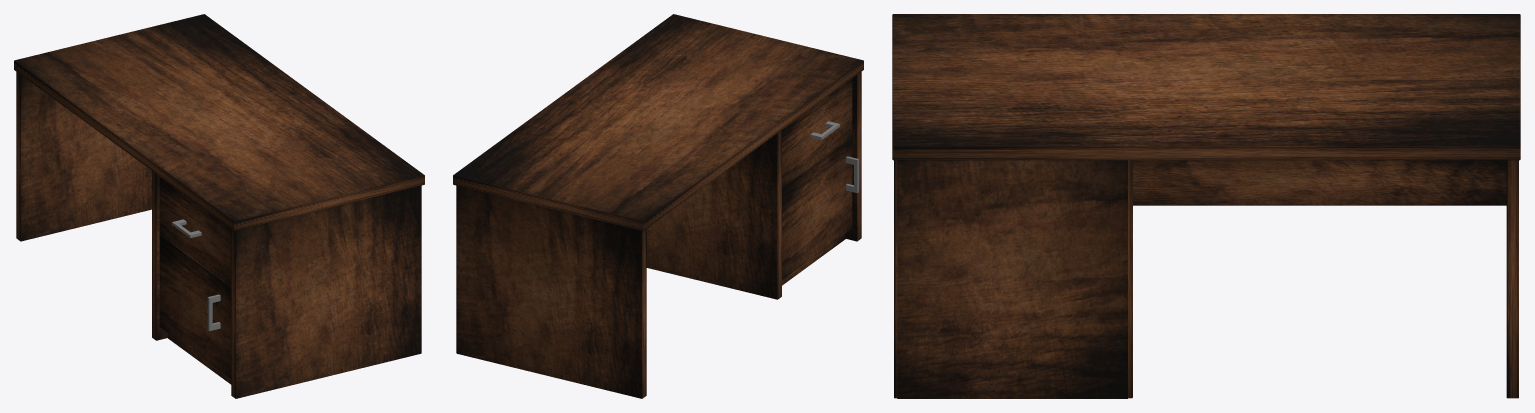
File: Escritorio.obj
The picture shows the model from 3 angles, left to right: view 1: azimuth 30°, elevation 25°; view 2: azimuth 150°, elevation 25°; view 3: azimuth 270°, elevation 25°; orthographic projection. The views are drawn at different scales.
Visible parts, largest first — view 1: Door4; view 2: Door4; view 3: Door4.
Boxes of the visible parts, bbox=[...] form: Door4: bbox=[14, 14, 424, 398]; Door4: bbox=[453, 14, 863, 398]; Door4: bbox=[892, 14, 1520, 398].
Bounding box in the file's own units: 0.7831 × 0.6654 × 1.49.
Materials: 2 (1 with a texture image).
